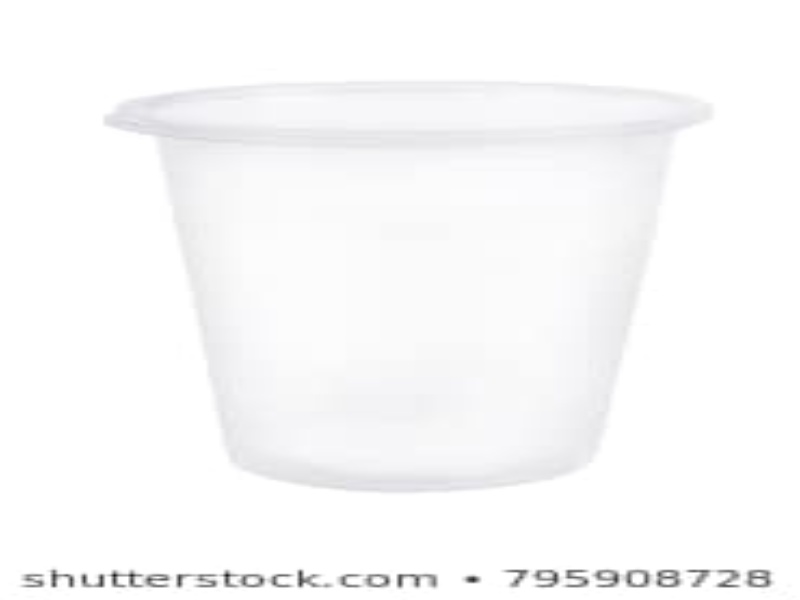plastic-cup: (99, 78, 723, 505)
